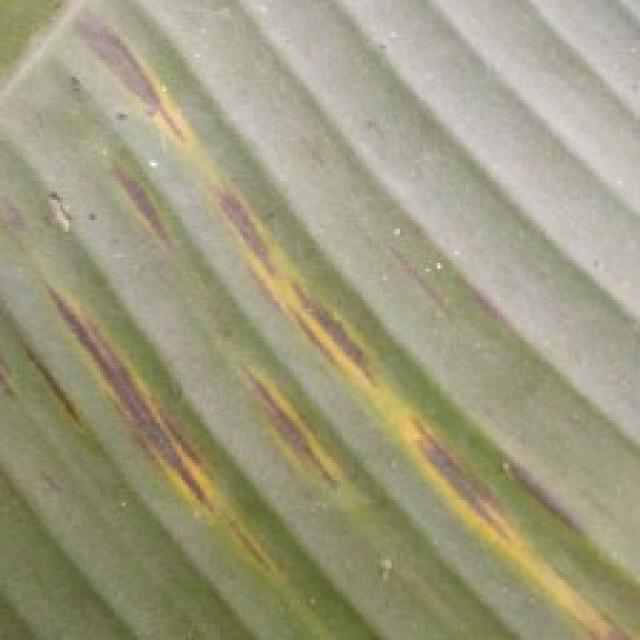Early_leaf_spot: (75, 12, 529, 585), (35, 257, 298, 587), (221, 326, 350, 518), (0, 324, 85, 474), (94, 158, 193, 270), (514, 560, 640, 640)
